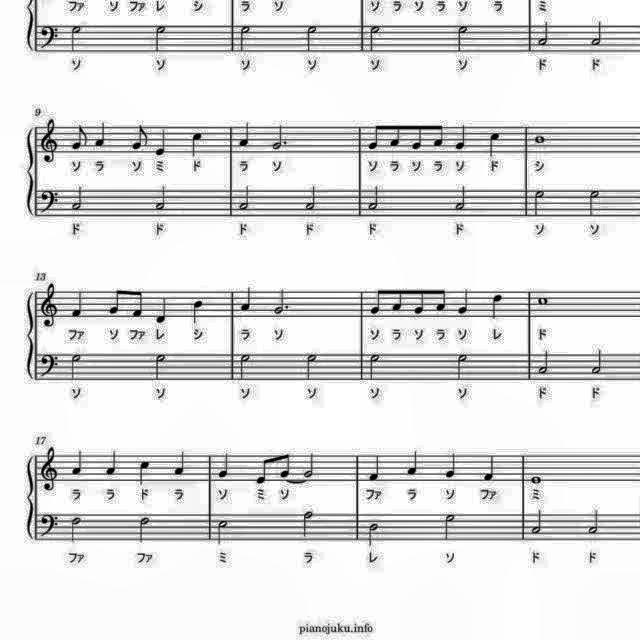Bass-clef: (38, 21, 62, 51), (37, 349, 61, 379), (38, 510, 61, 540), (38, 188, 62, 216)
Eighth-note: (128, 122, 152, 152), (68, 122, 90, 154), (364, 120, 382, 154), (409, 121, 426, 155), (255, 452, 273, 484), (366, 285, 384, 317), (276, 448, 294, 479), (108, 285, 125, 317), (132, 286, 148, 320), (385, 120, 401, 152), (412, 284, 428, 316), (388, 284, 404, 314), (430, 122, 446, 150), (432, 286, 448, 314)
Full-note: (534, 292, 552, 308), (532, 133, 548, 147), (528, 472, 544, 486)
Half-dot: (270, 122, 290, 154), (272, 286, 292, 318)
Half-note: (150, 352, 170, 384), (302, 352, 322, 384), (528, 507, 548, 538), (534, 347, 554, 377), (151, 21, 169, 54), (214, 516, 232, 548), (365, 22, 383, 54), (454, 352, 472, 384), (69, 184, 87, 216), (454, 22, 472, 54), (589, 18, 607, 50), (237, 182, 255, 214), (441, 510, 459, 542), (303, 22, 321, 54), (364, 184, 382, 216), (533, 188, 551, 220), (135, 513, 153, 545), (237, 351, 255, 383), (586, 187, 604, 219), (365, 352, 383, 383), (586, 507, 604, 538), (235, 20, 252, 52), (535, 19, 553, 49), (589, 346, 607, 376), (152, 183, 170, 213), (301, 185, 319, 215), (453, 184, 471, 214), (68, 20, 84, 52), (298, 507, 314, 539), (68, 352, 84, 384), (68, 514, 84, 546), (364, 520, 381, 548), (302, 450, 318, 478)
Quarter-note: (69, 287, 87, 321), (481, 450, 499, 482), (154, 294, 172, 326), (367, 452, 385, 484), (151, 126, 169, 158), (405, 447, 423, 479), (452, 122, 470, 154), (444, 448, 461, 480), (215, 450, 233, 480), (485, 129, 503, 159), (69, 447, 87, 477), (93, 120, 111, 150), (456, 286, 472, 318), (489, 292, 506, 322), (238, 119, 255, 149), (104, 447, 120, 478), (172, 447, 188, 478), (137, 458, 153, 488), (238, 285, 254, 315), (188, 130, 205, 158), (188, 298, 204, 326)
Treble-clef: (38, 116, 62, 166), (38, 281, 62, 331), (38, 443, 62, 492)
